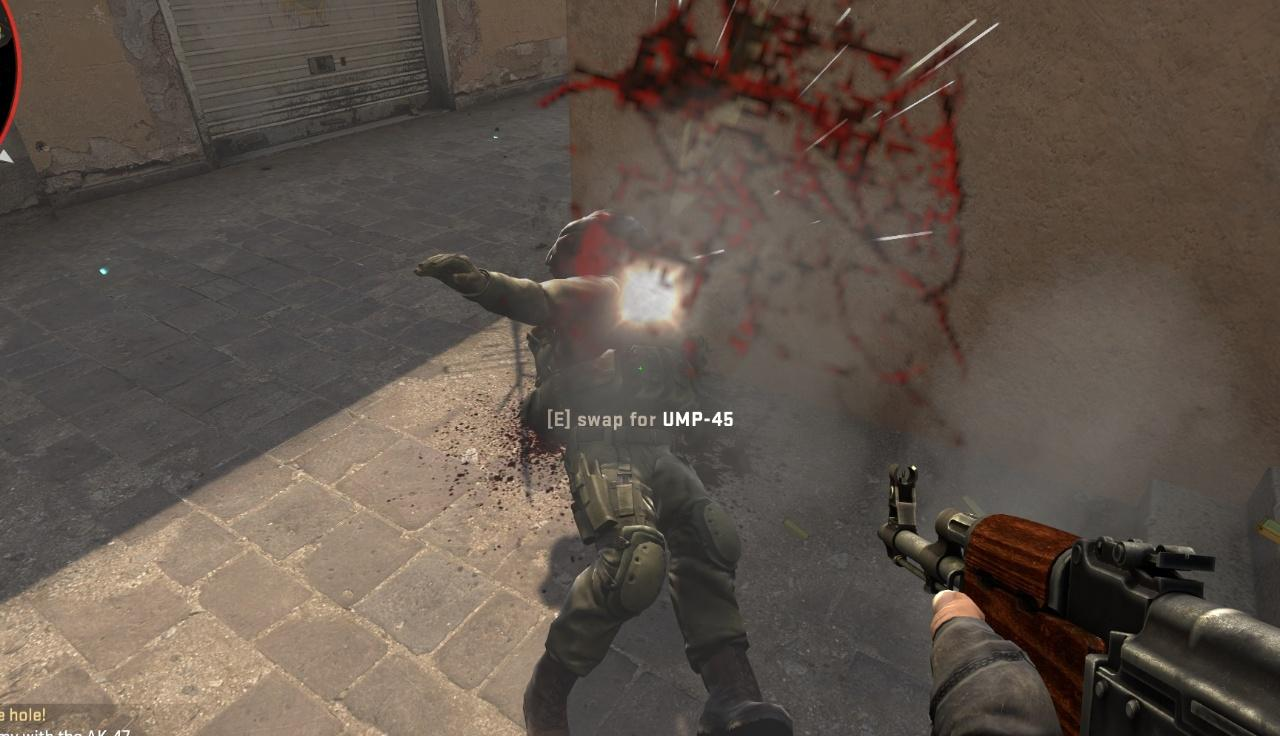rifle: (881, 463, 1280, 736)
